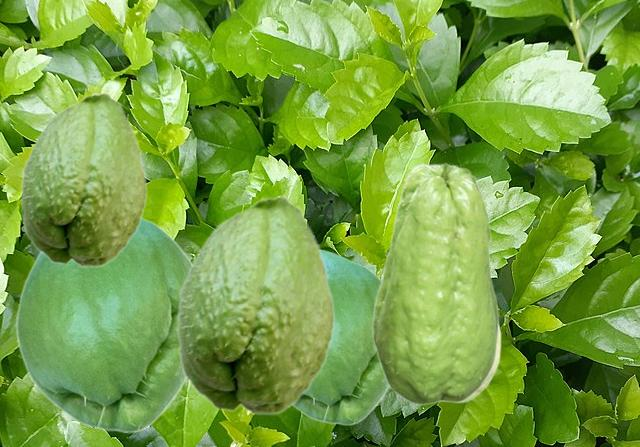sayote: (15, 217, 192, 433), (176, 194, 335, 415), (371, 162, 499, 405), (20, 91, 147, 267), (293, 249, 388, 425), (464, 320, 500, 402)
